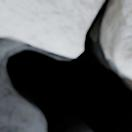broken_brick: (0, 0, 96, 57), (114, 0, 131, 76)
crack: (2, 0, 131, 131)
